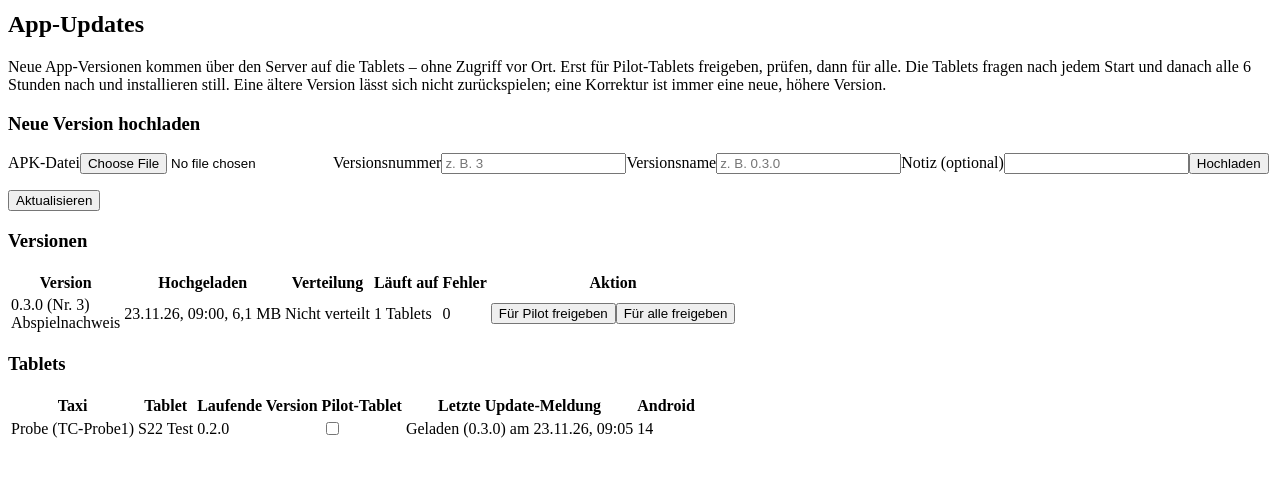
Test: App-Updates im Dashboard › zeigt Versionen und Tablets und gibt erst für Pilot, dann für alle frei
Check: the text "0.3.0 (Nr. 3) Abspielnachweis" is shown, box [10,295,121,333]
Check: the text "Nicht verteilt" is shown, box [284,295,371,333]
Click the button with aria-label "Für Pilot freigeben: Version 0.3.0" at point(553, 314), box [491,303,616,324]
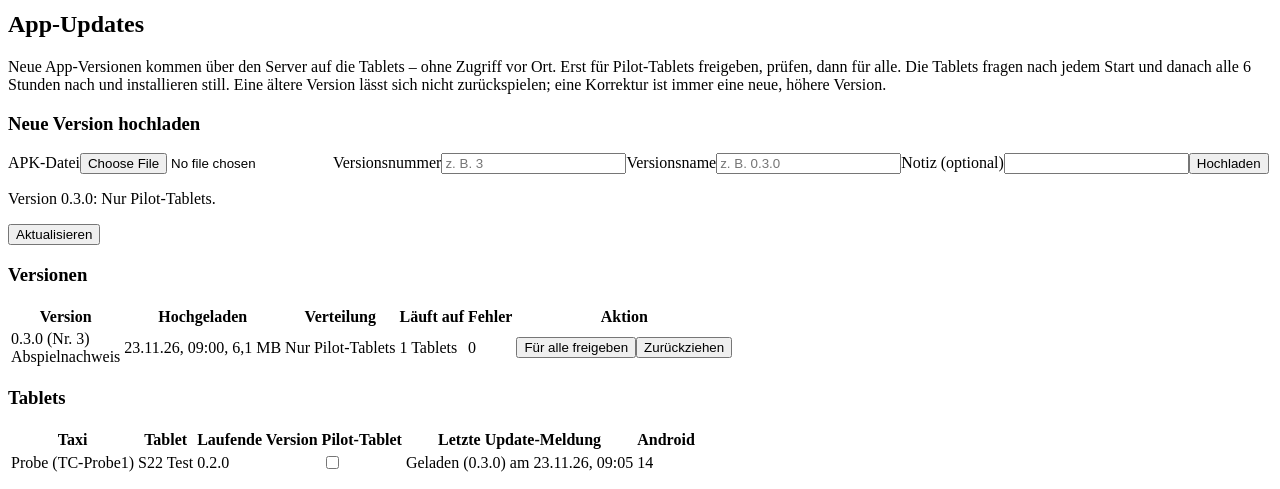
Check: the text "Nur Pilot-Tablets" is shown, box [284,329,396,367]
Click the button with aria-label "Für alle freigeben: Version 0.3.0" at point(576, 348), box [516,337,636,358]
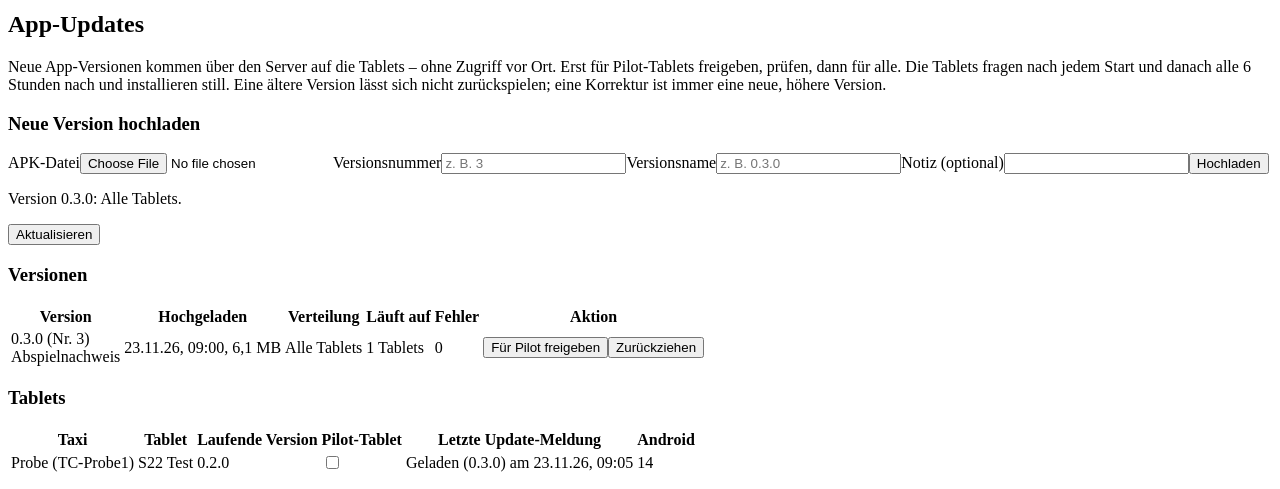
Check: the button with aria-label "Zurückziehen: Version 0.3.0" is shown, box [608,337,704,358]
Check: the text "Alle Tablets" is shown, box [284,329,363,367]
